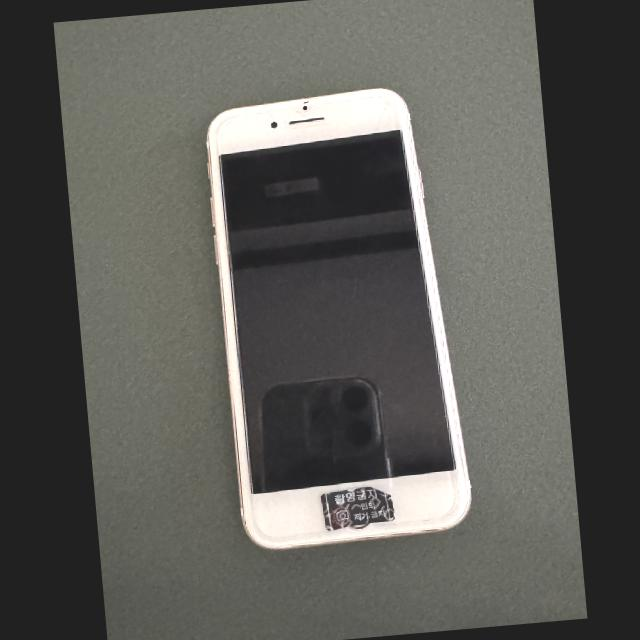lens: (302, 104, 307, 110)
phone: (206, 89, 470, 548)
sticker: (320, 486, 394, 531)
